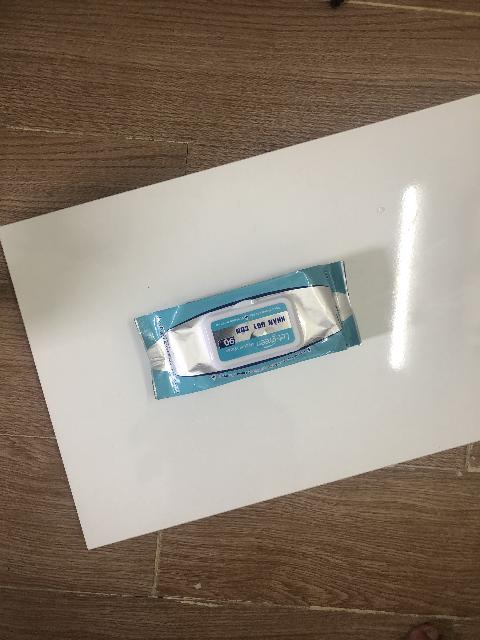Let-green_alcohol_wipes: (137, 261, 363, 400)
